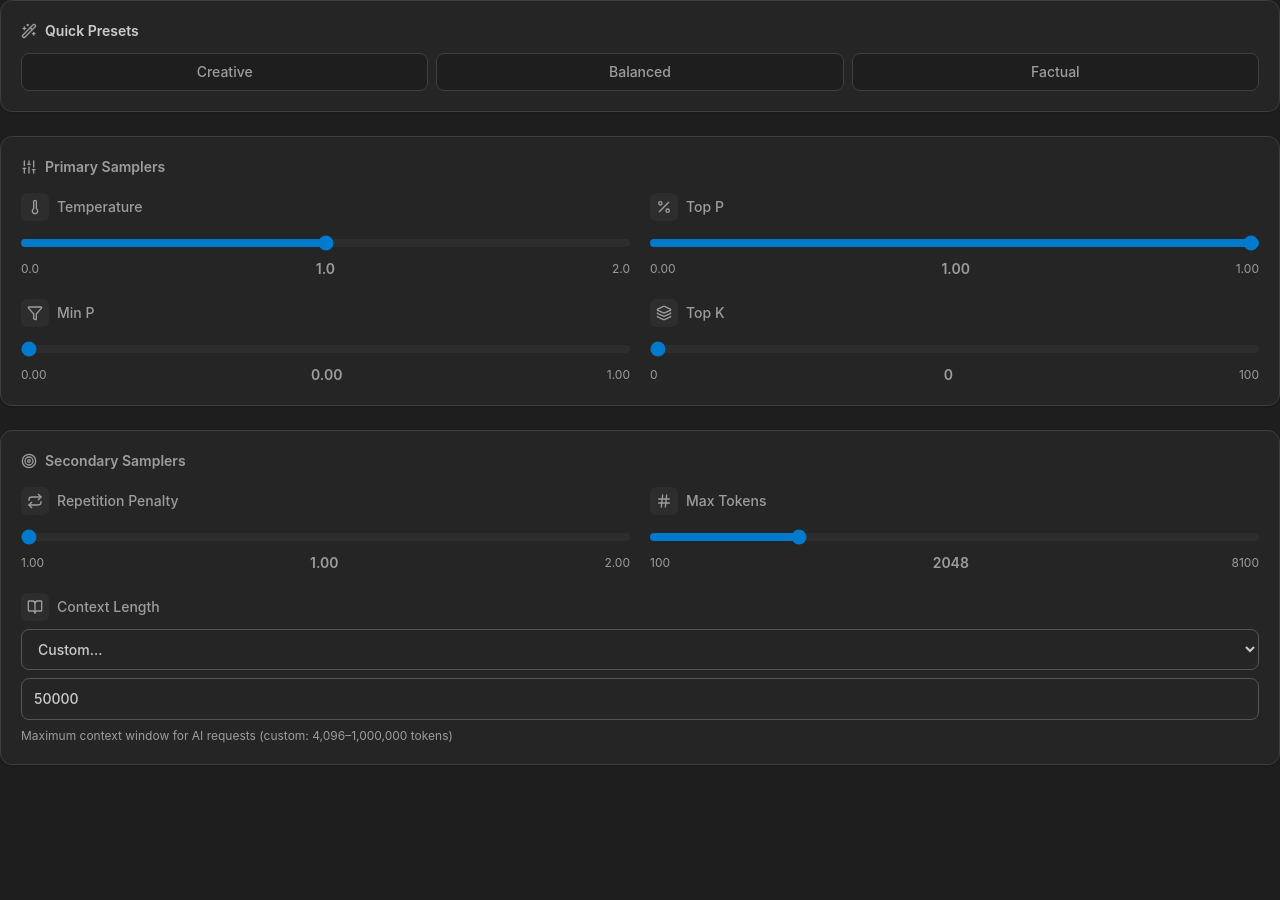
custom context length field › restores the last value when left empty
Clear the number field named "Custom context length in tokens" at (640, 699), box [21,678,1259,720]
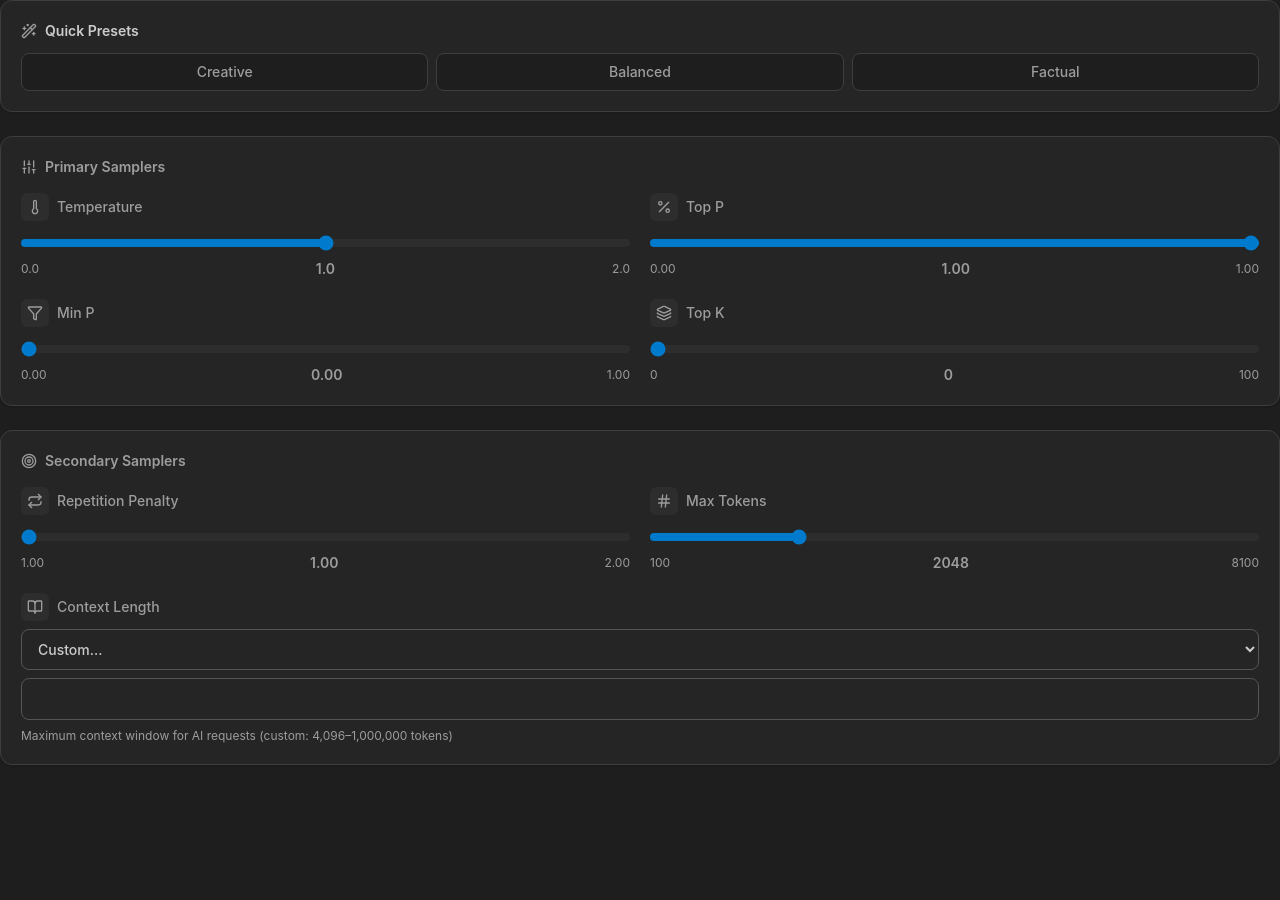
Leave the number field named "Custom context length in tokens", box [21,678,1259,720]
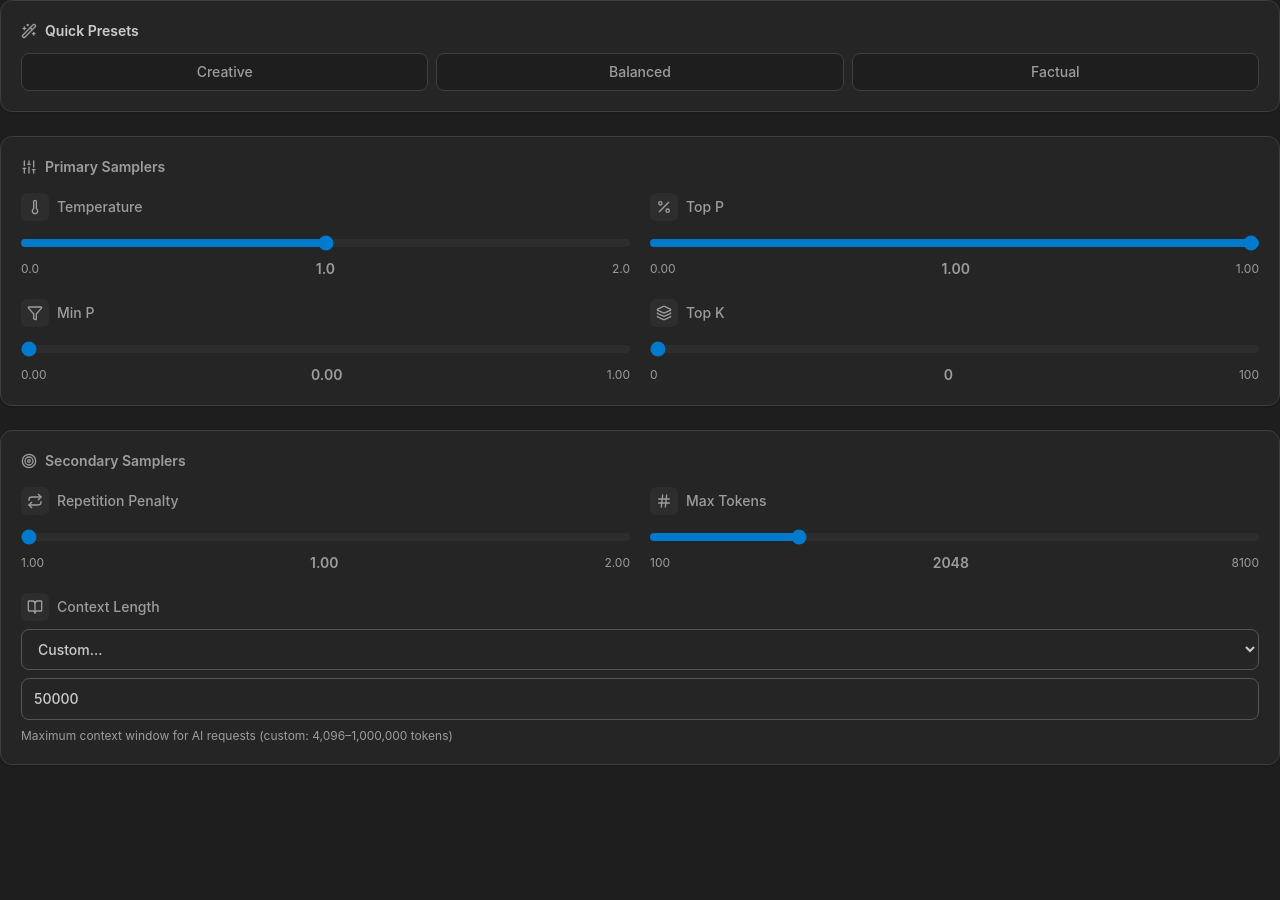
Expected: the number field named "Custom context length in tokens" holds "50000", [21,678,1259,720]
